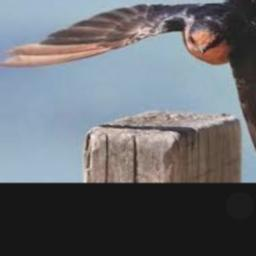Swallow: (0, 0, 256, 182)
